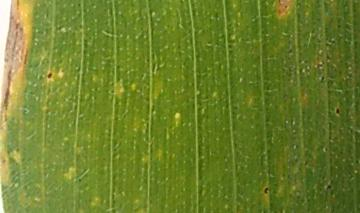tarspot: (261, 183, 271, 199), (44, 70, 55, 82), (334, 105, 341, 119)
